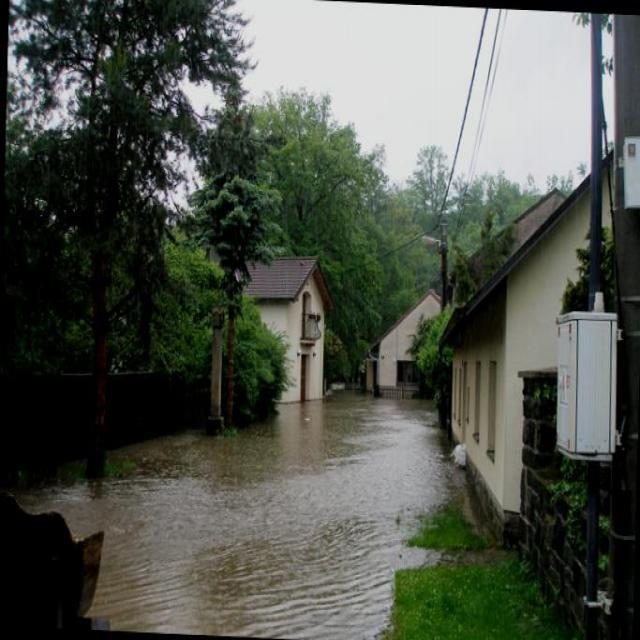flood: (81, 364, 486, 639)
